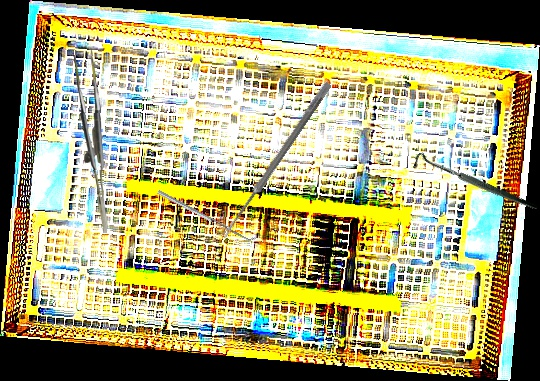Hook Surgical: (408, 116, 539, 254)
Spatula Surgical: (157, 186, 257, 245)
Surgical Spoon: (220, 80, 332, 241)
Tissue Forceps: (71, 49, 111, 234)
